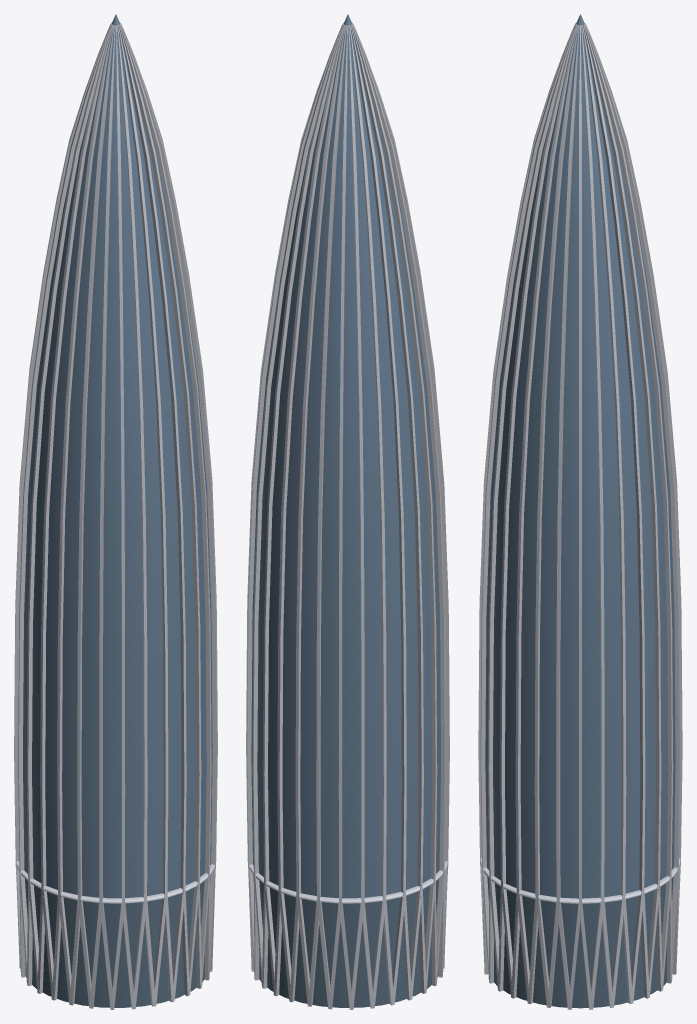
Rendered from shenzhen-china-resources-tower.glb.
3 renders of one model, left to right at view 1: azimuth 30°, elevation 25°; view 2: azimuth 150°, elevation 25°; view 3: azimuth 270°, elevation 25°, orthographic.
Parts seen in each view (by area): view 1: China Resources Tower; view 2: China Resources Tower; view 3: China Resources Tower.
Boxes of the visible parts, <box> form: China Resources Tower: <box>14,14,217,1009</box>; China Resources Tower: <box>246,14,449,1009</box>; China Resources Tower: <box>478,14,682,1009</box>.
Size of the model in its own units: 76.08 by 393 by 76.08.
